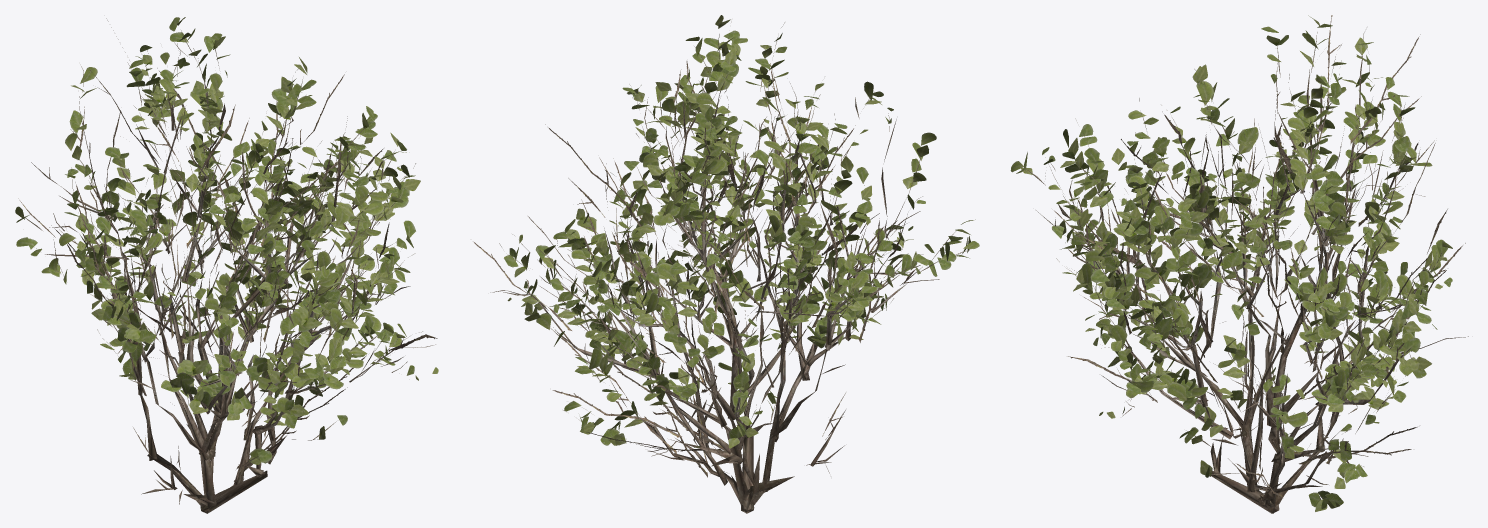
The picture shows the model from 3 angles, left to right: view 1: azimuth 30°, elevation 25°; view 2: azimuth 150°, elevation 25°; view 3: azimuth 270°, elevation 25°; orthographic projection. The views are drawn at different scales.
Visible parts, largest first — view 1: searsia_lucida__a_lod0; view 2: searsia_lucida__a_lod0; view 3: searsia_lucida__a_lod0.
Part boxes in pixels (left/top/right/bottom): searsia_lucida__a_lod0: left=15, top=17, right=438, bottom=513; searsia_lucida__a_lod0: left=473, top=15, right=979, bottom=513; searsia_lucida__a_lod0: left=1010, top=15, right=1468, bottom=513.
Size of the model in its own units: 1.92 by 2.33 by 1.97.
Materials: 2 (2 with a texture image).
